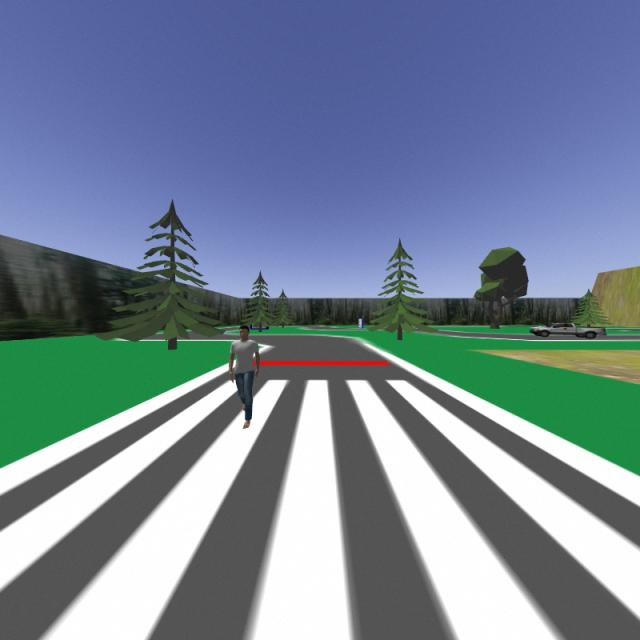pedestrian: (228, 327, 258, 430)
